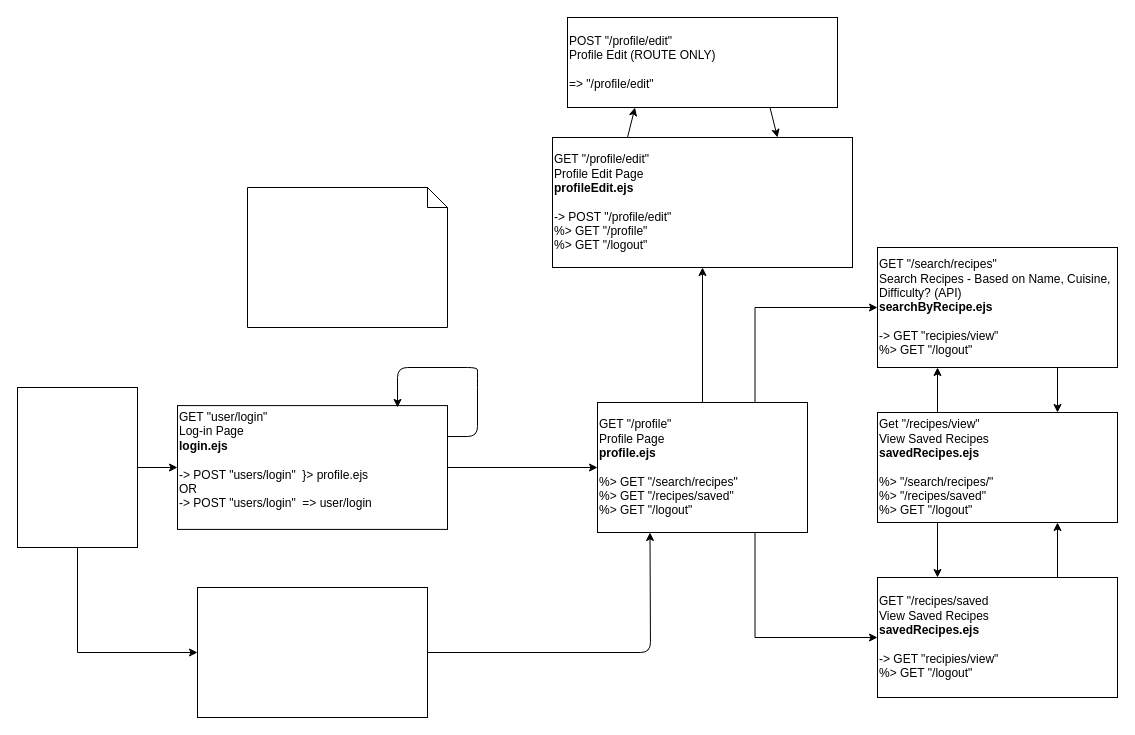
The diagram is 1135 pixels wide and 735 high, and some of its shapes have lost their labels. Here are the shapes that lost their labels. From the top down, the box of each, then its label:
(246, 186, 448, 328): Legend: => : redirect %> : a href link -> : form submit }> : render
(16, 386, 138, 548): GET "/" Home Page index.ejs %> "user/login" OR %> "/signup"
(196, 586, 428, 718): GET "/signup" Sign-up Page signup.ejs -> POST "users/singup" }> profile.ejs
